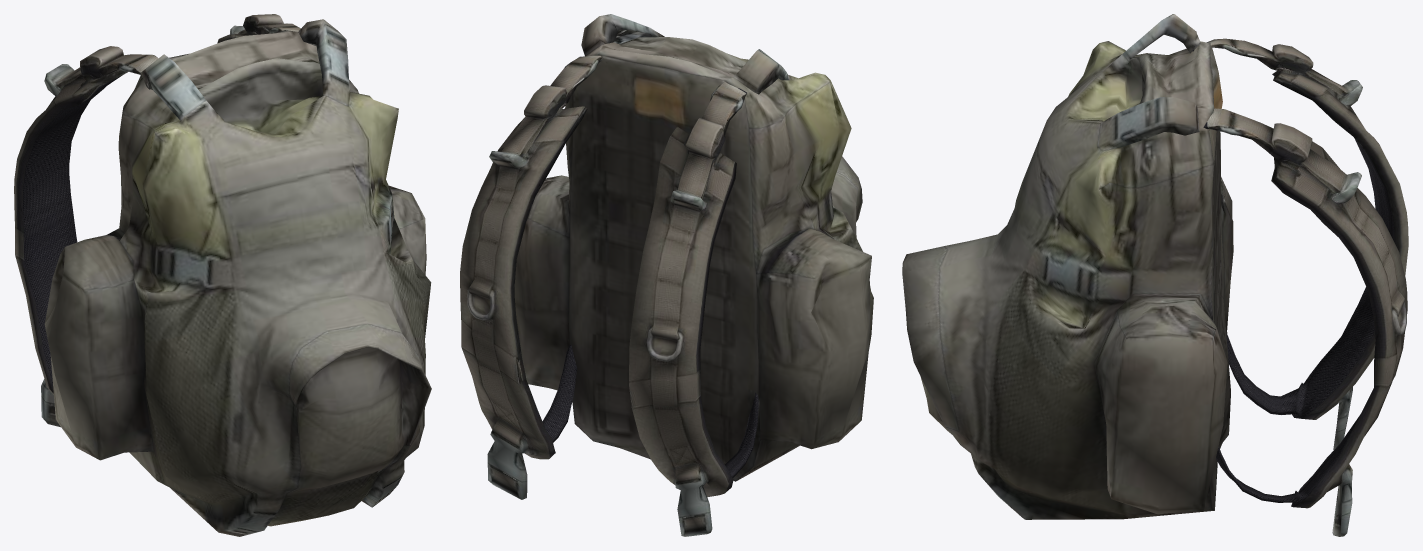
Rendered from bag3.glb.
3 views of the same model, side by side, from view 1: azimuth 30°, elevation 25°; view 2: azimuth 150°, elevation 25°; view 3: azimuth 270°, elevation 25° (orthographic). The views are drawn at different scales.
Visible parts, largest first — view 1: default645456_Material #10_0, default00112331_Material #12_0; view 2: default645456_Material #10_0, default00112331_Material #12_0; view 3: default645456_Material #10_0, default00112331_Material #12_0.
Boxes of the visible parts, x1,y1,x2,y2 form: default645456_Material #10_0: [44, 19, 431, 536]; default00112331_Material #12_0: [14, 14, 300, 427]; default645456_Material #10_0: [514, 14, 873, 481]; default00112331_Material #12_0: [460, 55, 758, 536]; default645456_Material #10_0: [902, 14, 1233, 519]; default00112331_Material #12_0: [1192, 38, 1408, 536].
Bounding box in the file's own units: 0.5068 × 0.5814 × 0.6011.
Materials: 2 (2 with a texture image).
